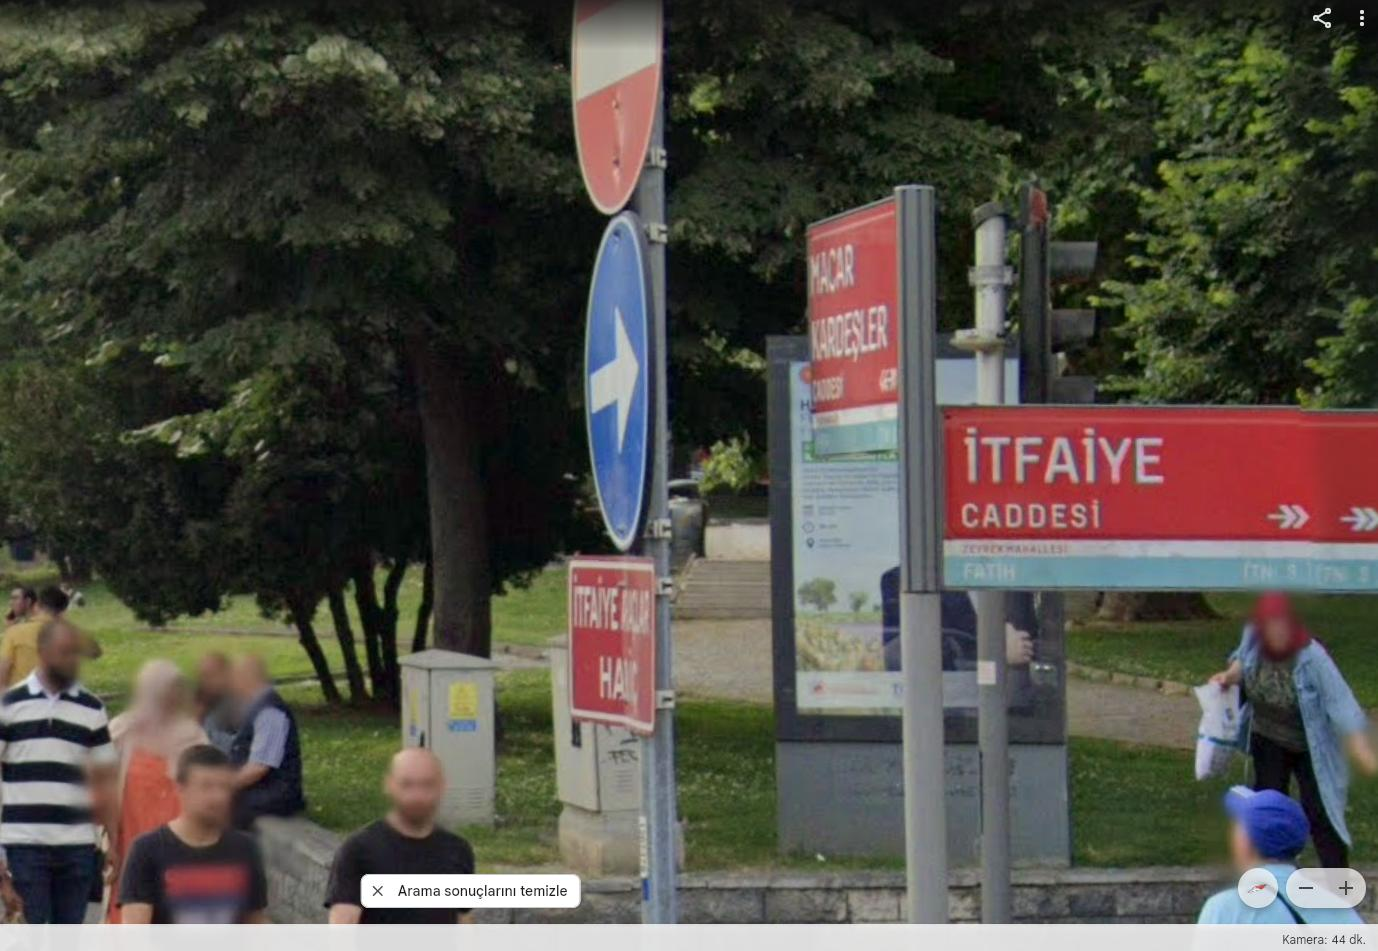turnright: (554, 212, 666, 546)
